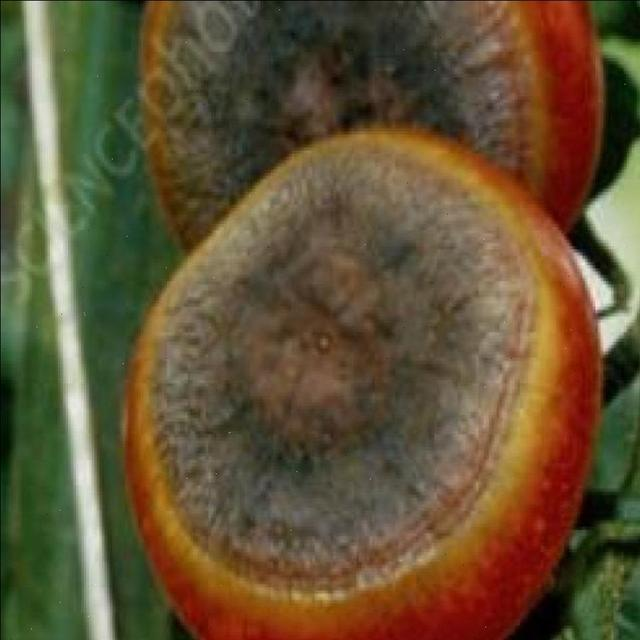Blossom End Rot Fruit: (220, 72, 308, 270)
